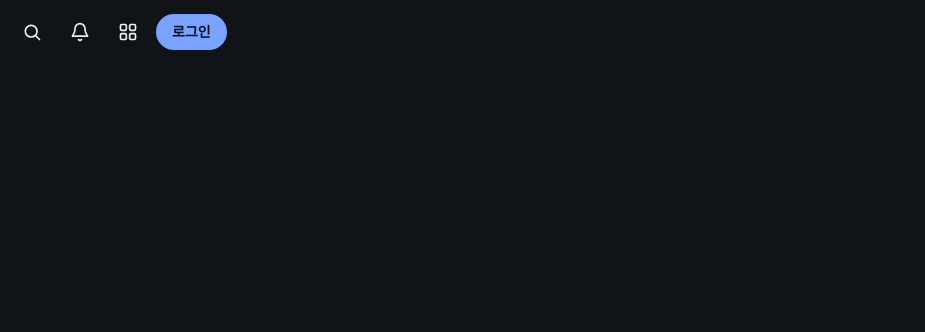
Test: TopBarActions › 서비스 항목을 누르면 서비스 목록이 닫힌다
The image size is (925, 332).
// 서비스 목록을 연다
Click the button named "서비스": (128, 32) [108, 12, 148, 52]
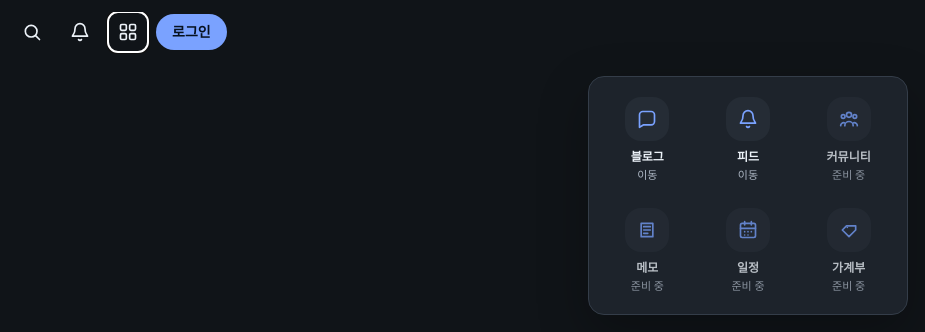
Click the link "블로그 이동": (647, 140) [625, 97, 669, 182]
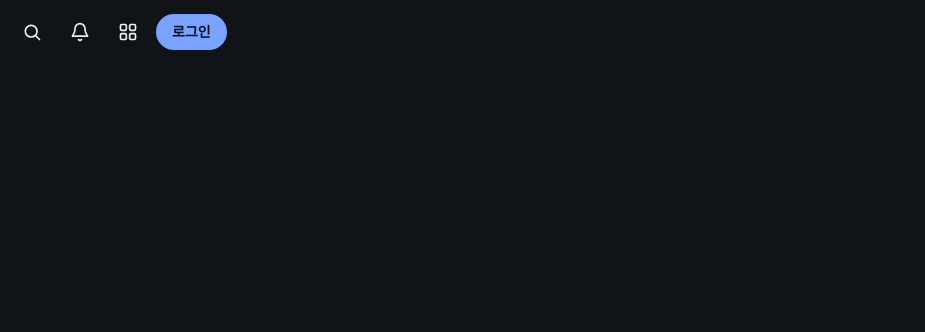
Expected: the text "블로그 이동 피드 이동 커뮤니티 준비 중 메모 준비 중 일정 준비 중 가계부 준비 중" is gone
